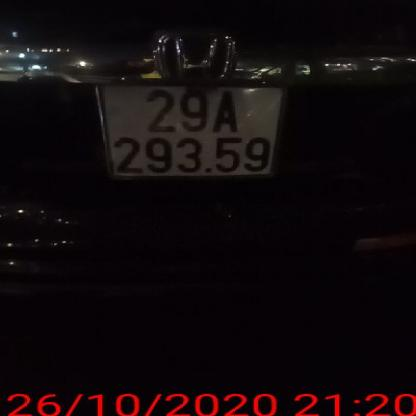biensoxe: (98, 76, 282, 182)
